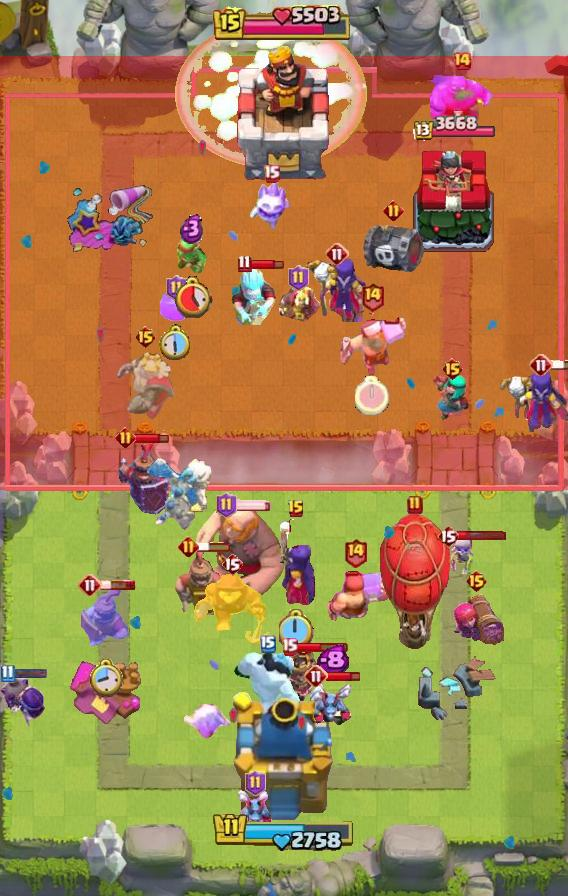bar: (296, 641, 349, 653), (457, 530, 507, 541), (234, 499, 272, 511), (326, 670, 361, 683), (100, 579, 136, 591), (196, 541, 232, 553), (134, 432, 169, 444), (249, 258, 284, 270), (12, 668, 48, 679), (551, 359, 568, 371)
bar-level: (343, 537, 368, 568), (360, 281, 385, 312), (304, 664, 328, 688), (78, 573, 102, 597), (529, 353, 553, 377), (325, 242, 349, 266), (465, 569, 488, 593), (441, 357, 464, 381), (134, 325, 157, 349), (245, 770, 266, 796), (216, 492, 237, 518), (166, 275, 187, 301), (288, 265, 309, 291), (221, 552, 243, 576), (437, 524, 459, 548), (178, 536, 199, 557), (115, 427, 136, 448), (383, 200, 404, 221), (452, 51, 472, 71), (287, 499, 305, 519), (281, 637, 298, 656), (263, 164, 280, 183), (407, 495, 423, 515), (260, 635, 276, 653), (0, 664, 15, 683), (237, 254, 252, 273)
bomber-evolution: (0, 672, 46, 730)
clock: (172, 275, 213, 318), (279, 609, 314, 649), (89, 659, 123, 699), (355, 376, 389, 415), (159, 324, 193, 361)
elixir: (316, 644, 349, 677), (180, 213, 204, 244)
elixir-golem-mid: (430, 74, 494, 124)
elixir-golem-small: (160, 291, 192, 321)
firecracker-evolution: (448, 594, 504, 656)
ice-spirit-evolution: (249, 177, 293, 231), (180, 702, 230, 740)
ice-wizard: (228, 261, 278, 325)
king-tower: (227, 692, 341, 826), (230, 43, 338, 181)
king-tower-bar: (212, 811, 356, 853), (213, 5, 355, 43)
little-prince: (283, 652, 321, 704)
lumberjack: (337, 313, 407, 375), (320, 568, 390, 624)
minion: (310, 679, 354, 725), (238, 789, 272, 835)
queen-tower: (410, 145, 496, 256)
rascal-girl: (431, 373, 473, 421)
royal-ghost: (113, 349, 177, 421)
royal-recruit: (175, 543, 225, 615), (81, 585, 131, 651)
skeleton-evolution: (446, 534, 478, 576)
spear-goblin: (173, 232, 211, 276)
tower-bar: (411, 116, 495, 143)
witch: (498, 370, 568, 432), (305, 256, 369, 322), (273, 519, 319, 607)
wizard: (275, 286, 321, 324)
